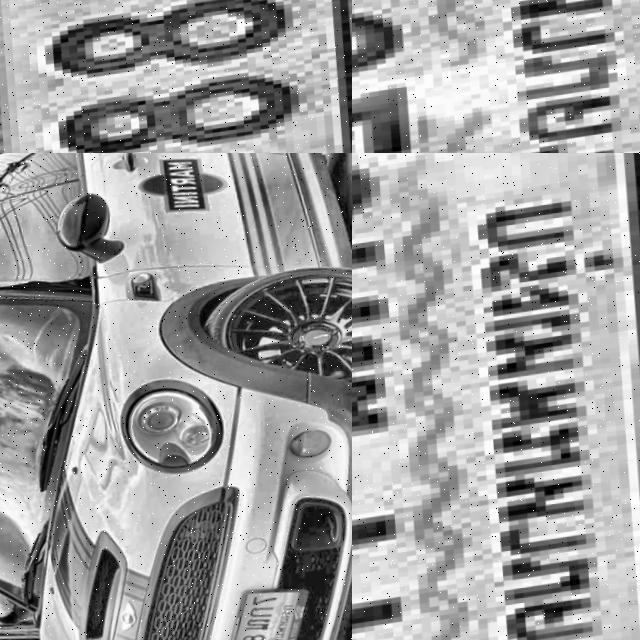license-plate: (352, 153, 640, 640), (0, 0, 352, 153), (352, 0, 640, 153), (210, 586, 316, 640)
